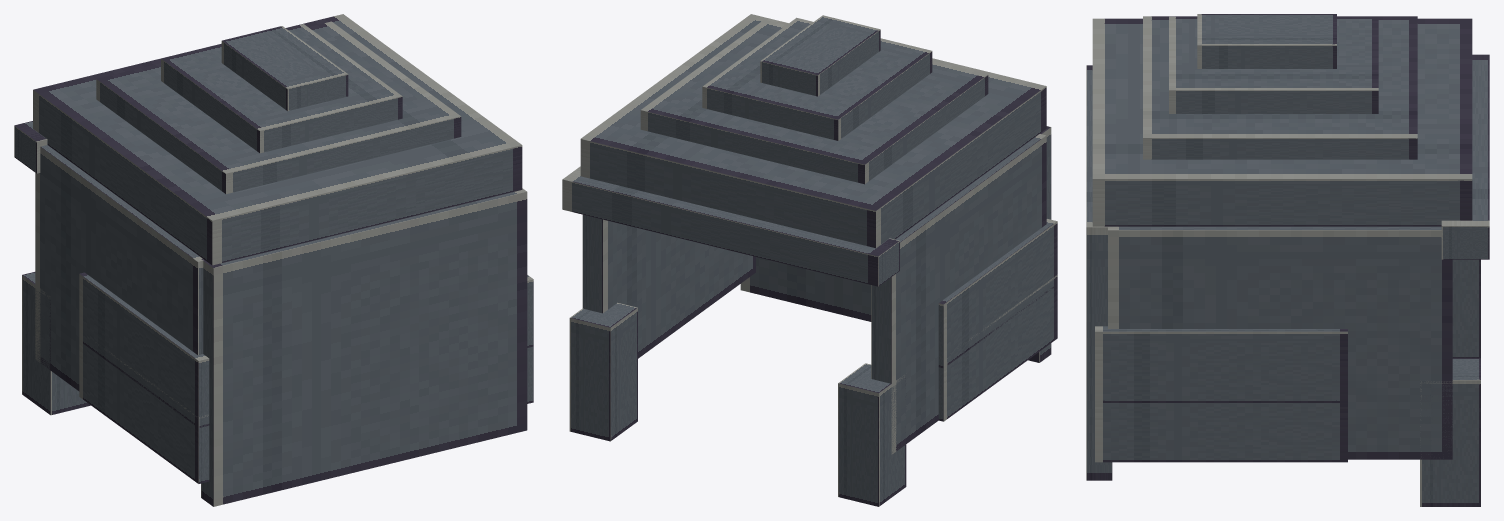
Rendered from workpiece_xuantie_helmet_tempered.obj.
3 renders of one model, left to right at view 1: azimuth 30°, elevation 25°; view 2: azimuth 150°, elevation 25°; view 3: azimuth 270°, elevation 25°, orthographic. The views are drawn at different scales.
Visible parts, largest first — view 1: geometry; view 2: geometry; view 3: geometry.
Part boxes in pixels (box(x1,y1,x2,y2)): geometry: box(14, 14, 533, 506); geometry: box(562, 14, 1057, 506); geometry: box(1086, 14, 1489, 506).
Size of the model in its own units: 0.5875 by 0.6219 by 0.5781.
